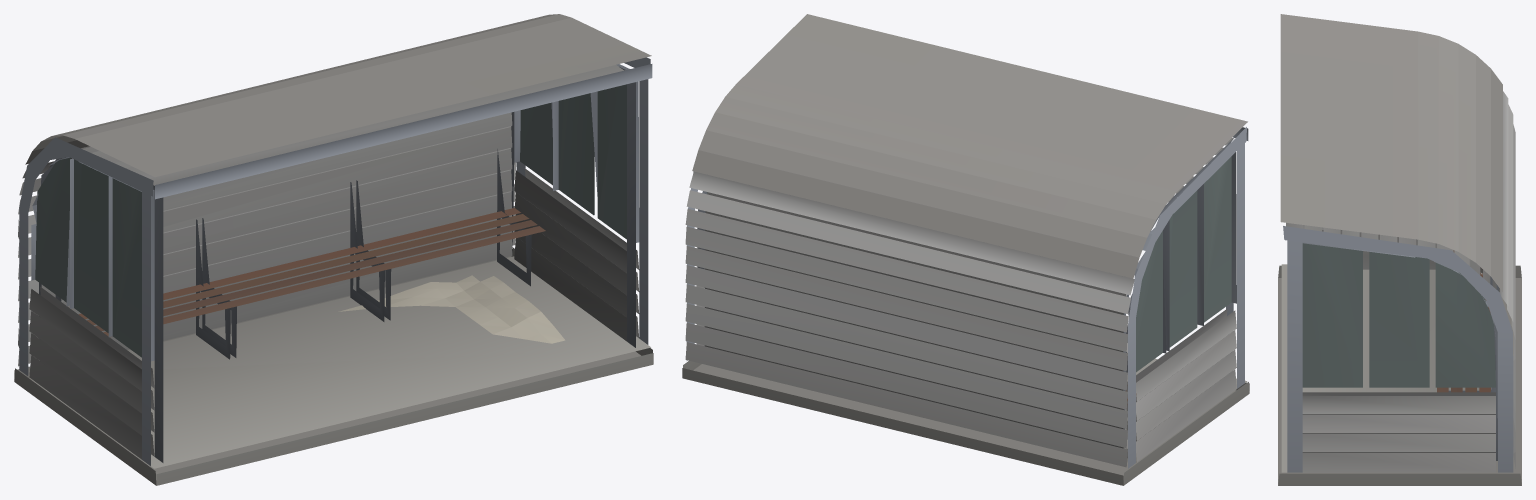
File: shelter.lod.glb
The picture shows the model from 3 angles, left to right: view 1: azimuth 30°, elevation 25°; view 2: azimuth 150°, elevation 25°; view 3: azimuth 270°, elevation 25°; orthographic projection. The views are drawn at different scales.
Parts seen in each view (by area): view 1: shelter.001; view 2: shelter.001; view 3: shelter.001.
Part boxes in pixels (left/top/right/bottom): shelter.001: left=14, top=14, right=653, bottom=485; shelter.001: left=682, top=14, right=1249, bottom=485; shelter.001: left=1278, top=14, right=1521, bottom=485.
Bounding box in the file's own units: 4 × 2.37 × 1.98.
